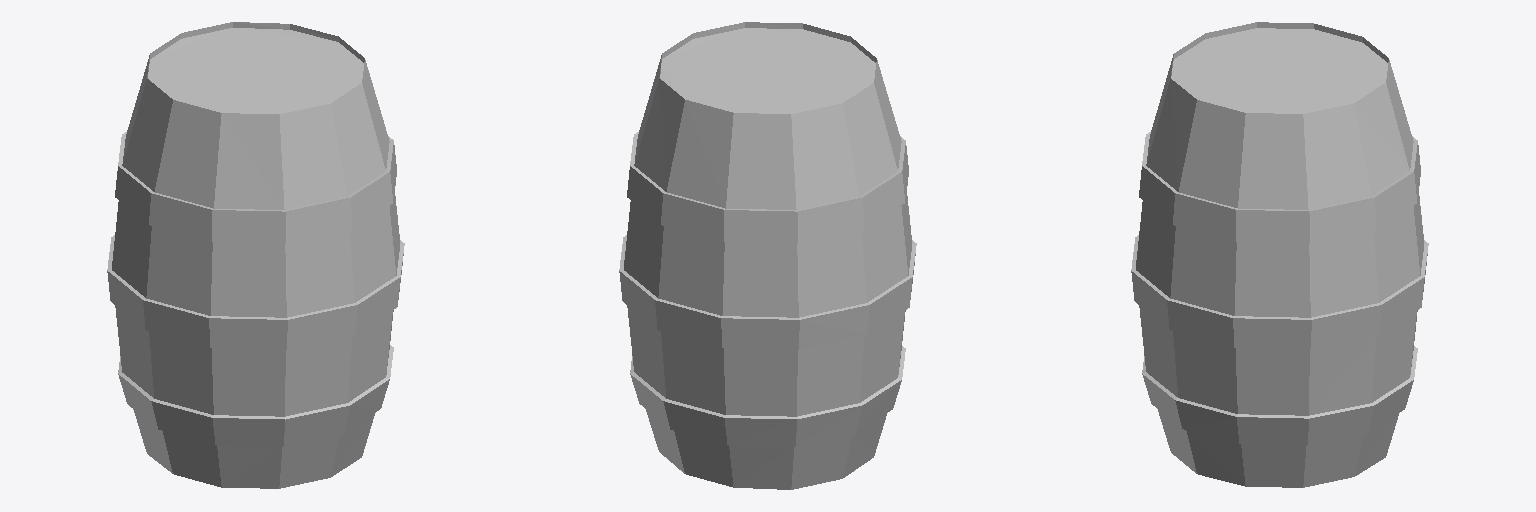
File: barrel.obj
3 renders of one model, left to right at view 1: azimuth 30°, elevation 25°; view 2: azimuth 150°, elevation 25°; view 3: azimuth 270°, elevation 25°, orthographic.
Parts seen in each view (by area): view 1: Environment_Environment_polySurface2; view 2: Environment_Environment_polySurface2; view 3: Environment_Environment_polySurface2.
Boxes of the visible parts, x1=… form: Environment_Environment_polySurface2: x1=107, y1=22, x2=404, y2=488; Environment_Environment_polySurface2: x1=619, y1=22, x2=916, y2=489; Environment_Environment_polySurface2: x1=1131, y1=22, x2=1428, y2=487.
Size of the model in its own units: 5.67 by 7.91 by 5.67.